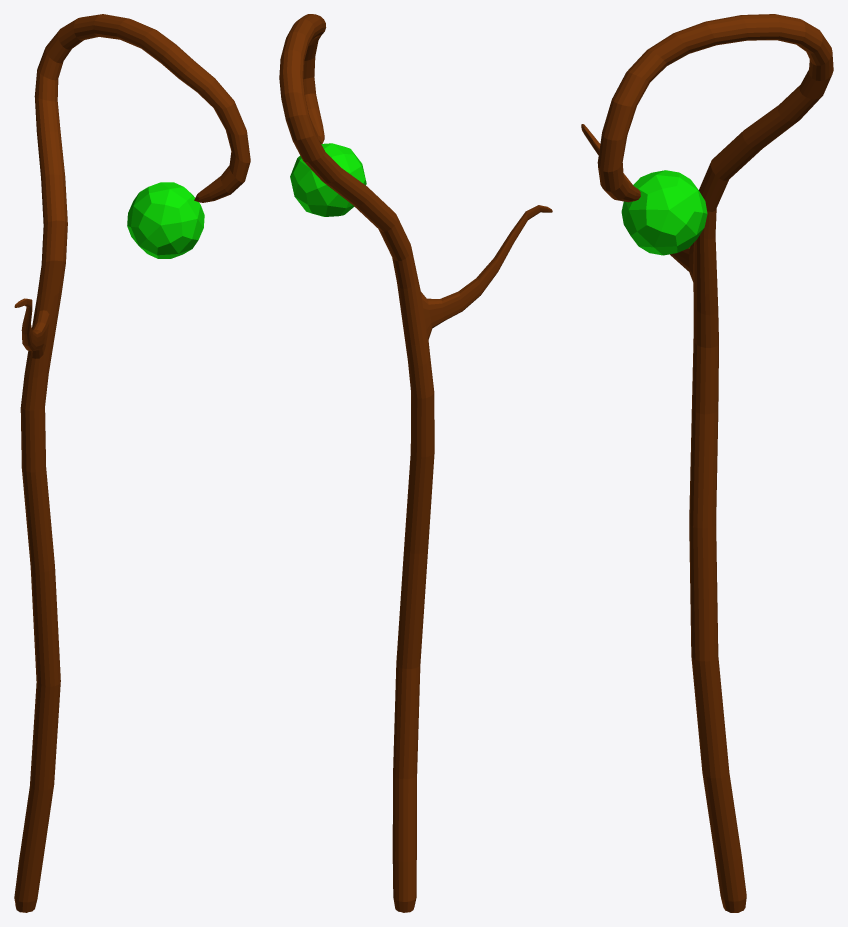
The model's file is Staff.fbx.
3 renders of one model, left to right at view 1: azimuth 30°, elevation 25°; view 2: azimuth 150°, elevation 25°; view 3: azimuth 270°, elevation 25°, orthographic. The views are drawn at different scales.
Parts seen in each view (by area): view 1: Baculo; view 2: Baculo; view 3: Baculo.
Boxes of the visible parts, <box> form: Baculo: <box>14,14,250,912</box>; Baculo: <box>279,14,552,912</box>; Baculo: <box>581,14,833,912</box>.
Bounding box in the file's own units: 216 × 721 × 173.
